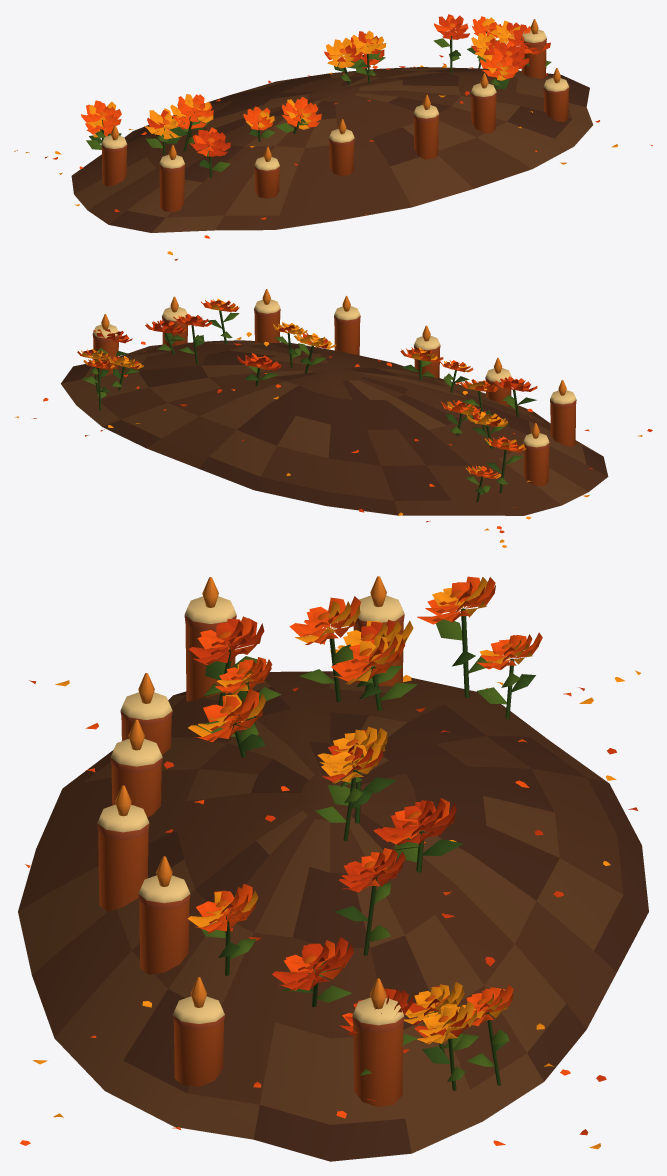
Rendered from monticulo_poniente.obj.
3 renders of one model, top to bottom at view 1: azimuth 30°, elevation 25°; view 2: azimuth 150°, elevation 25°; view 3: azimuth 270°, elevation 25°, orthographic. The views are drawn at different scales.
Visible parts, largest first — view 1: monticulo_poniente; view 2: monticulo_poniente; view 3: monticulo_poniente.
Part boxes in pixels (x1,y1,x2,y2): monticulo_poniente: (14, 14, 652, 260); monticulo_poniente: (15, 289, 652, 547); monticulo_poniente: (18, 576, 648, 1161).
Bounding box in the file's own units: 2.26 × 0.4247 × 1.21.
